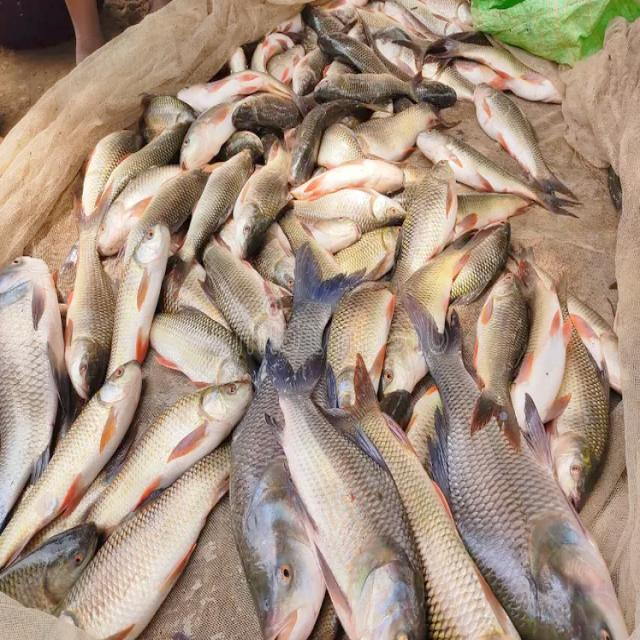Rohu: (412, 303, 633, 640), (231, 245, 362, 640), (264, 335, 426, 640)
